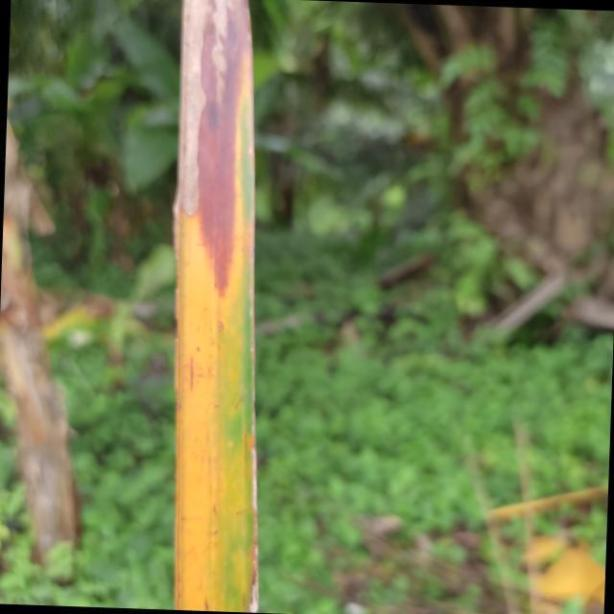Megnesium: (174, 0, 261, 614)
